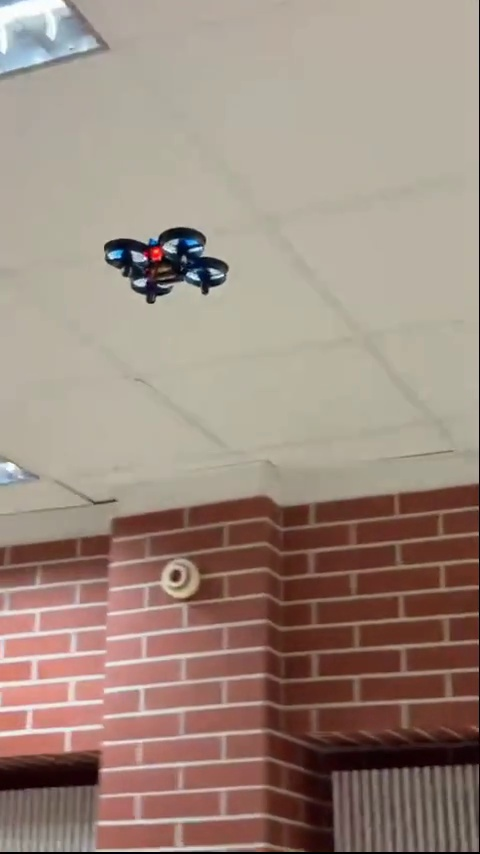drone: (104, 221, 229, 303)
